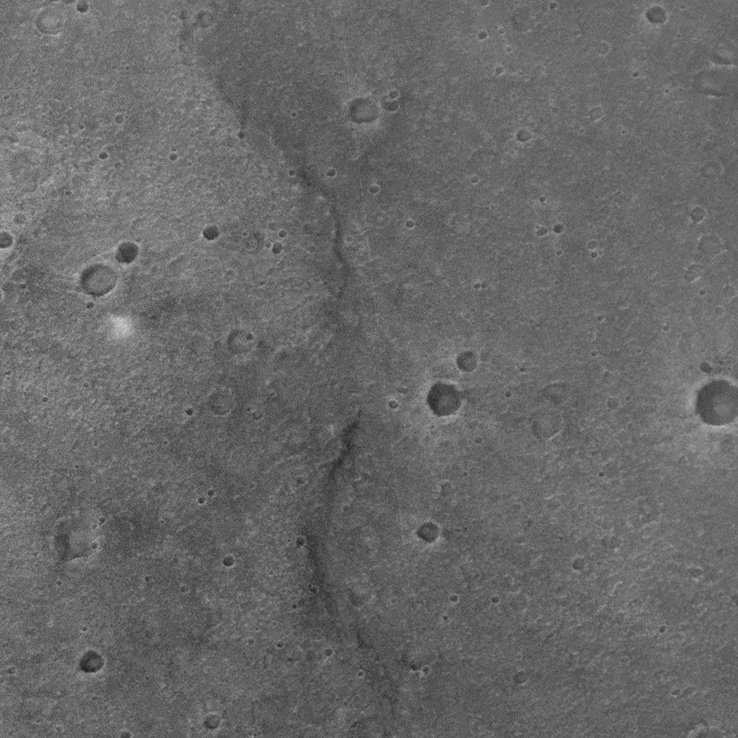dust_devil: (106, 290, 181, 340)
